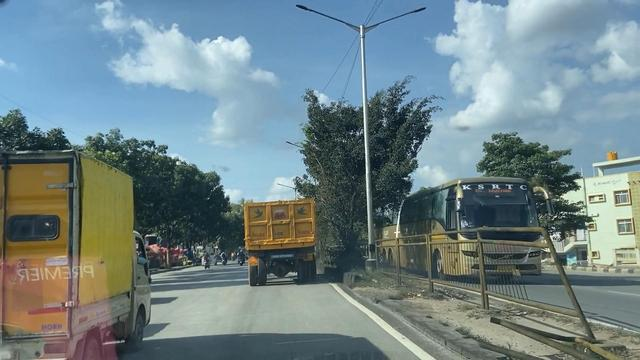HMV: (3, 154, 152, 359), (244, 198, 321, 282)
